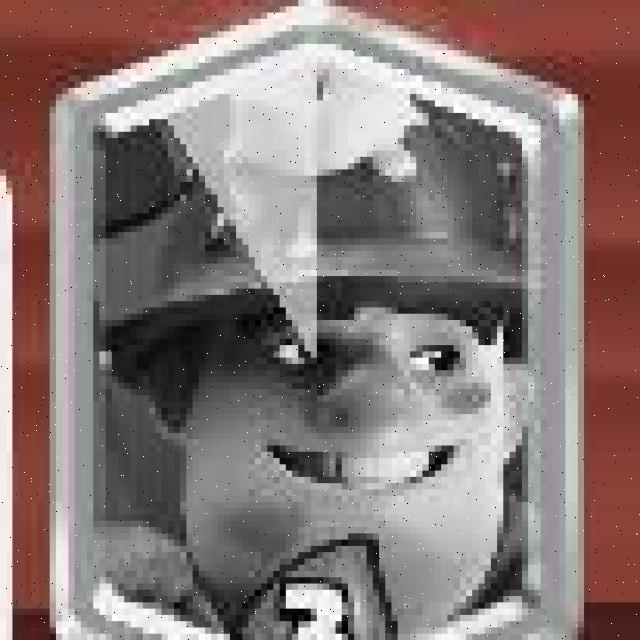Miner: (55, 2, 584, 640)
